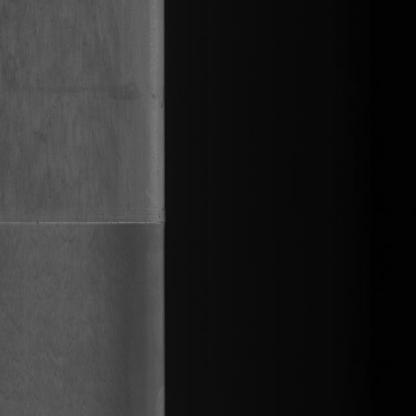welding_line: (1, 207, 180, 241)
